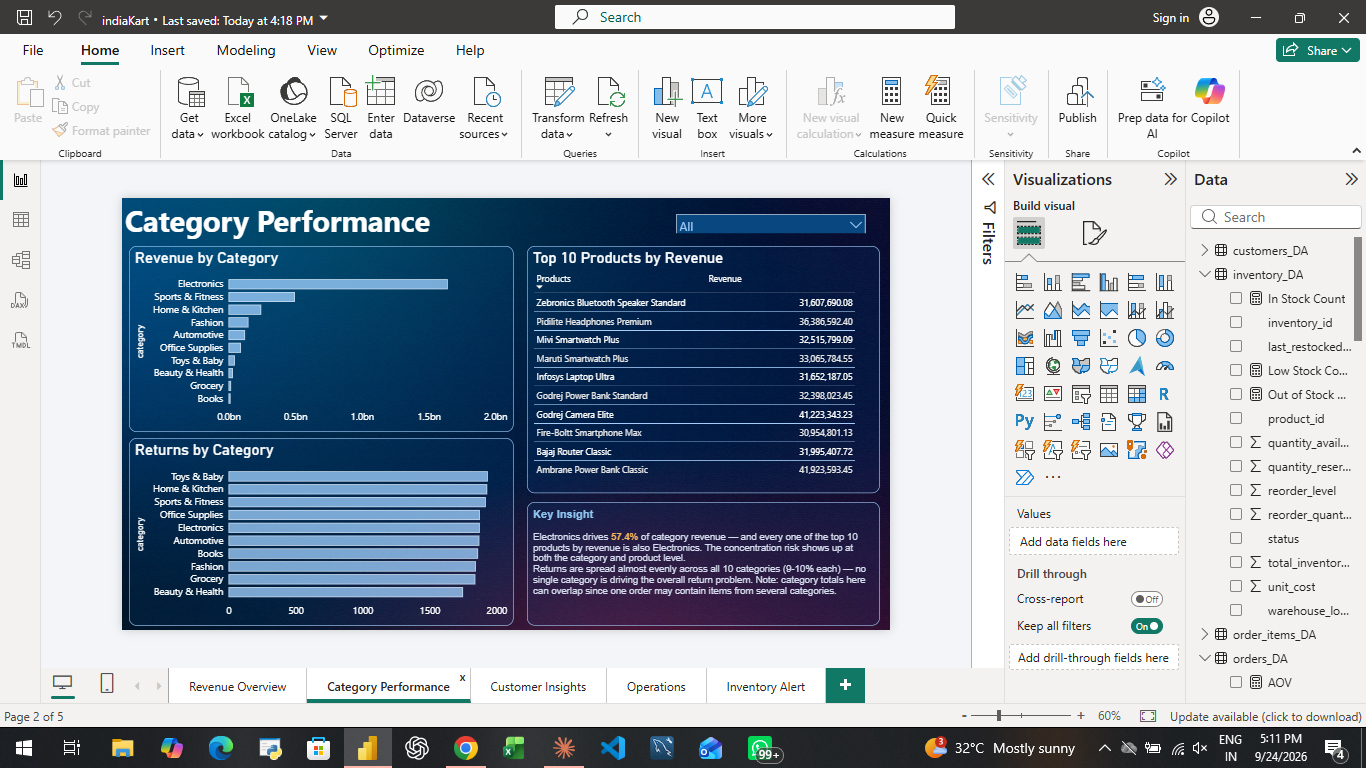

The page's visual inventory and layout, read from the dashboard file:
{"tool":"powerbi","page":{"name":"Category Performance","canvas":[1280,720],"ordinal":1},"visuals":[{"type":"textbox","box":[0,0,576.7,116.7],"z":0},{"type":"barChart","title":"Revenue by Category","fields":{"Category":["order_items_DA.category"],"Y":["Sum(order_items_DA.total_price)"]},"box":[11.3,79.4,640.6,310.4],"z":1000},{"type":"tableEx","title":"Top 10 Products by Revenue","fields":{"Values":["products_DA.product_name","Sum(order_items_DA.total_price)"]},"box":[674.6,79.4,588.2,412.4],"z":2000},{"type":"barChart","title":"Returns by Category","fields":{"Category":["order_items_DA.category"],"Y":["returns_DA.Returns by Category"]},"box":[11.3,399.7,640.6,313.2],"z":3000},{"type":"slicer","fields":{"Values":["order_items_DA.category"]},"box":[918.4,21.3,326,36.9],"z":4000},{"type":"textbox","box":[674.6,507.4,588.2,205.5],"z":5000}]}

Visuals, with their boxes on the page's 1280x720 design canvas (x1, y1, x2, y2). These are canvas units, not pixel positions in the 1366x768 screenshot, which may show the page scaled, cropped or inside an application window:
textbox: l=0, t=0, r=577, b=117
"Revenue by Category" barChart: l=11, t=79, r=652, b=390
"Top 10 Products by Revenue" tableEx: l=675, t=79, r=1263, b=492
"Returns by Category" barChart: l=11, t=400, r=652, b=713
slicer - order_items_DA.category: l=918, t=21, r=1244, b=58
textbox: l=675, t=507, r=1263, b=713
